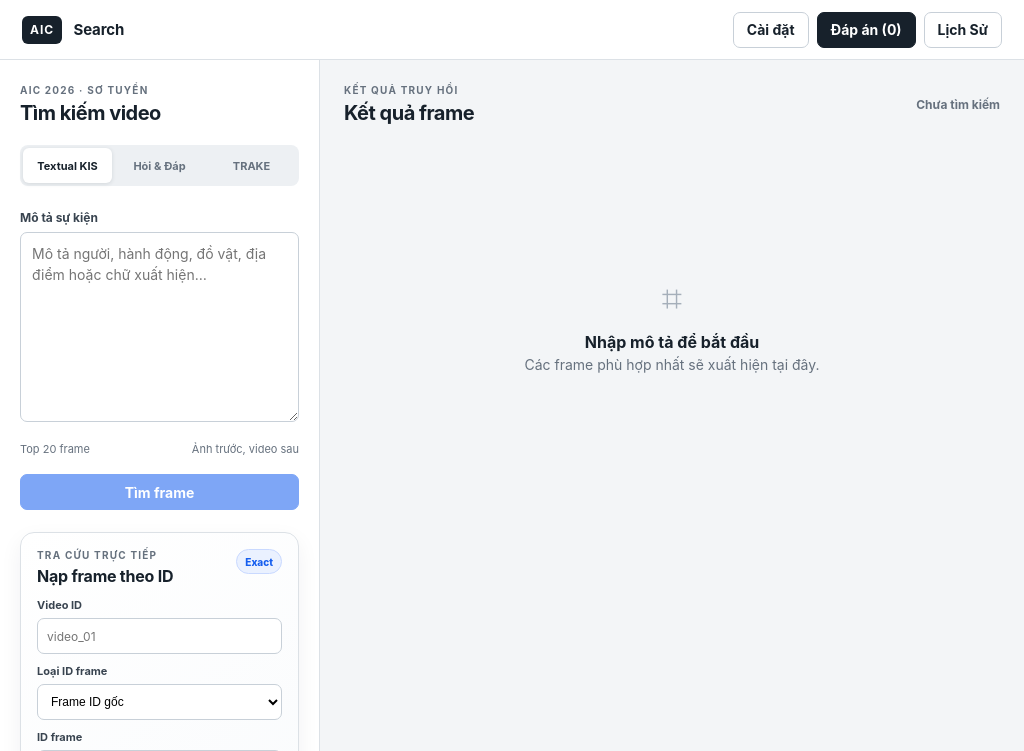
it: qualification frame-first workbench › adds a compact, configurable nearby window to the queue from Top 1
Type "Một cửa hàng trên phố" into the text box labelled "Mô tả sự kiện".
click(160, 327); type("Một cửa hàng trên phố")  # box [20,232,299,422]
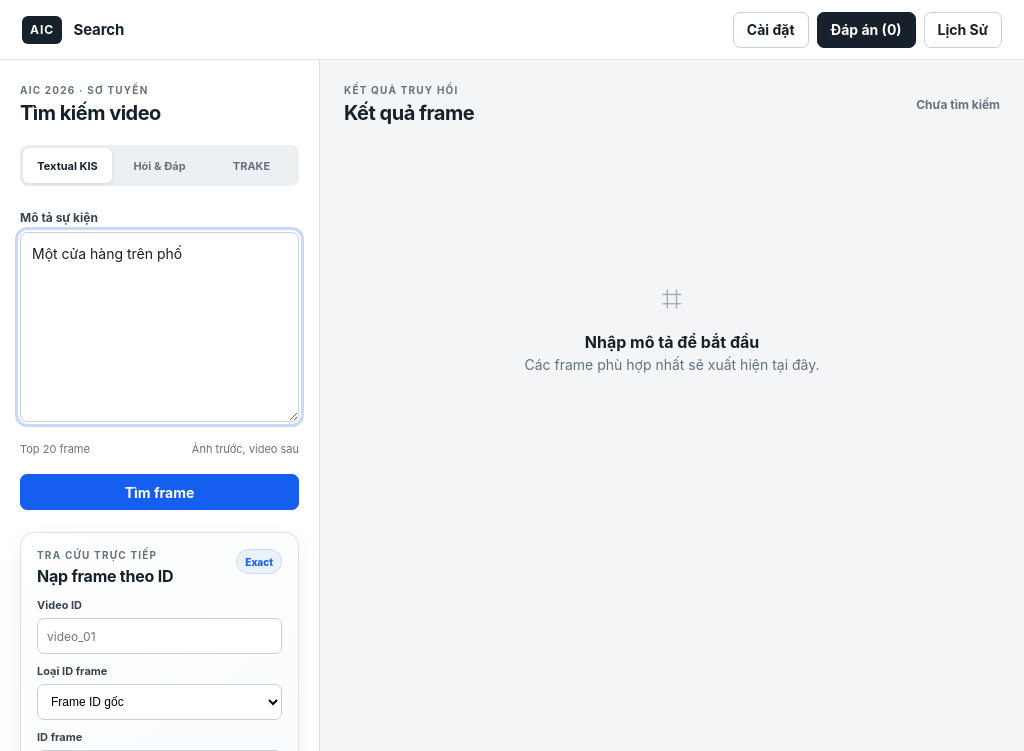
Click the button "Tìm frame".
click(160, 492)  # box [20,474,299,510]
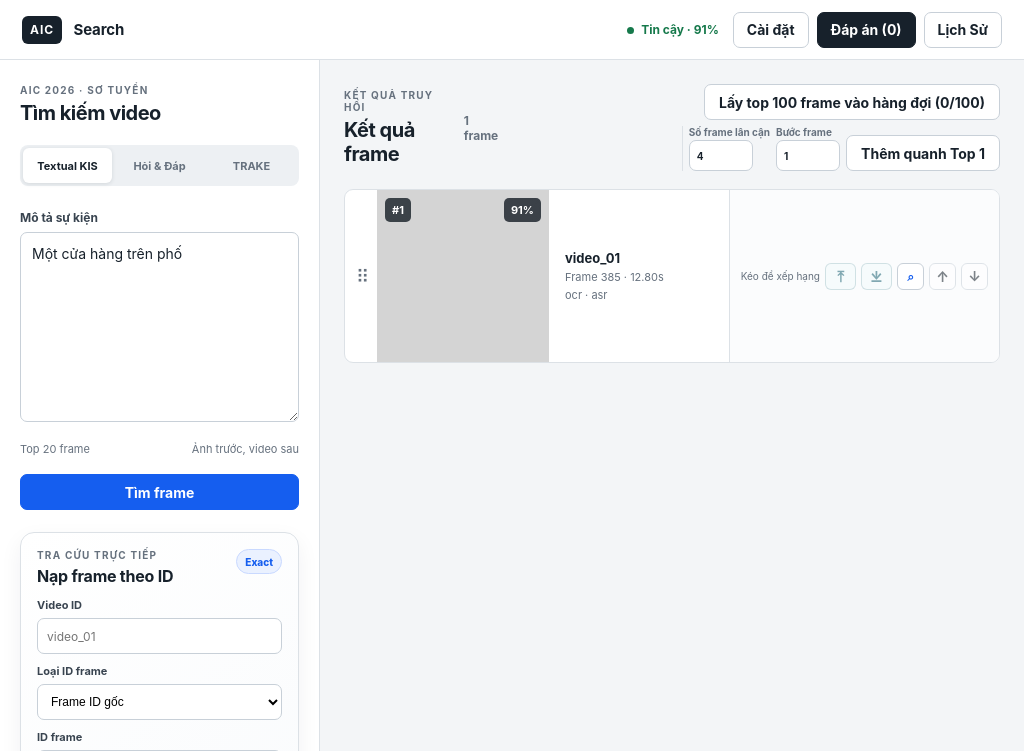
Result: the number field named "Số frame lân cận thêm vào queue" holds "4"
Replace the text in the number field named "Số frame lân cận thêm vào queue" with "6" at (721, 156), box [689,140,753,171]
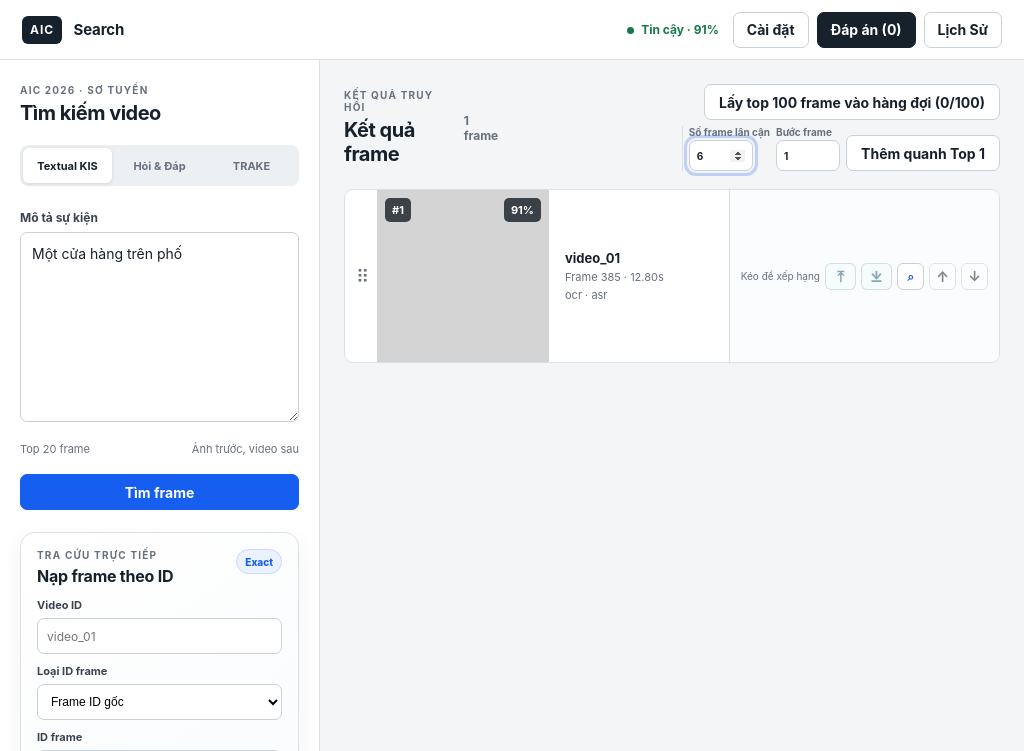
Replace the text in the number field named "Khoảng cách frame lân cận" with "90" at (808, 156), box [776,140,840,171]
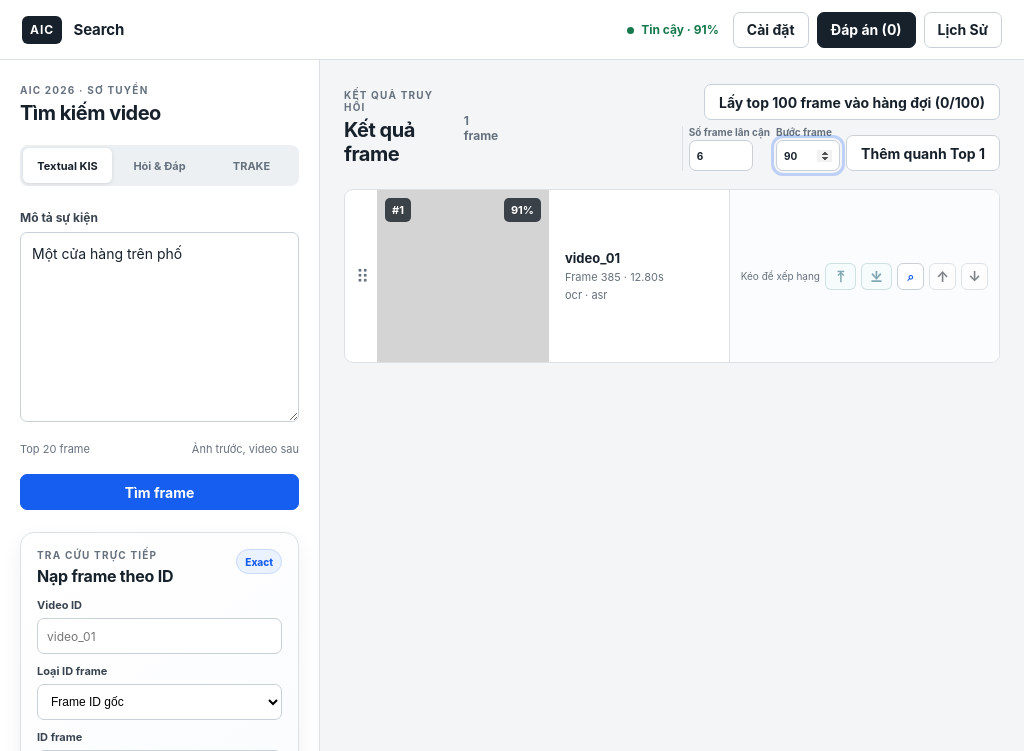
Click the button "Thêm quanh Top 1".
click(923, 153)  # box [846,135,1000,171]
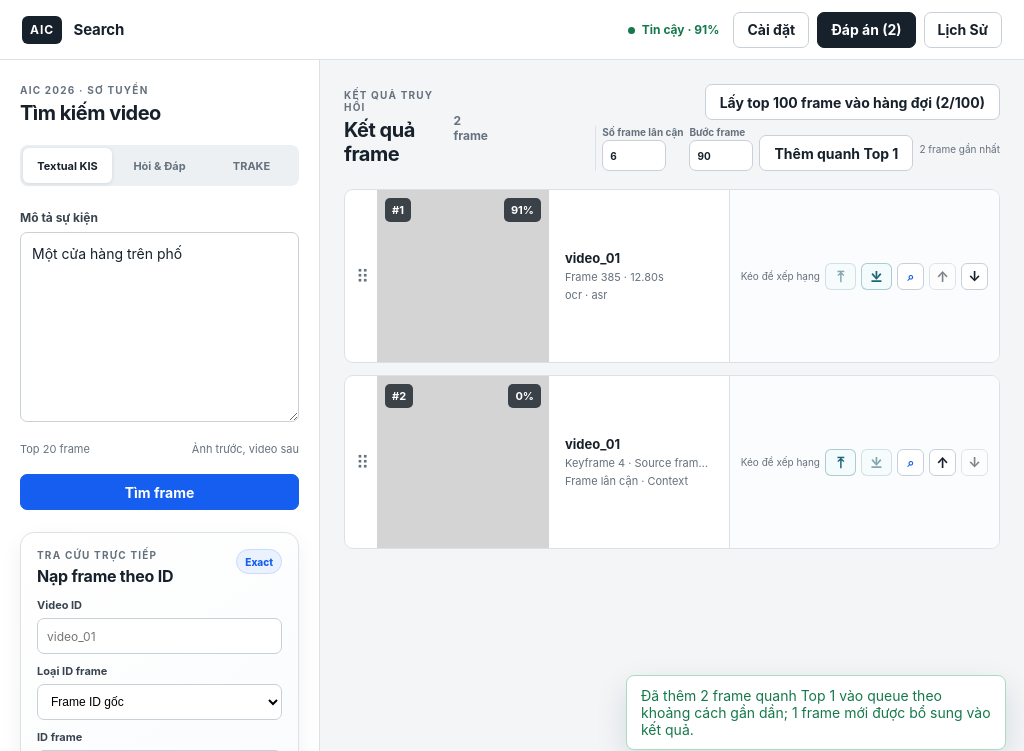
Result: the button with aria-label "Chọn keyframe video_01 · 4 · source frame 350" is shown at [377,376,729,548]
Result: the text "Frame lân cận · Context" is shown at [565,474,688,488]
Result: the text "2 frame" is shown at [453,112,488,142]
Click the button "Đáp án (2)".
click(866, 30)  # box [817,12,916,48]
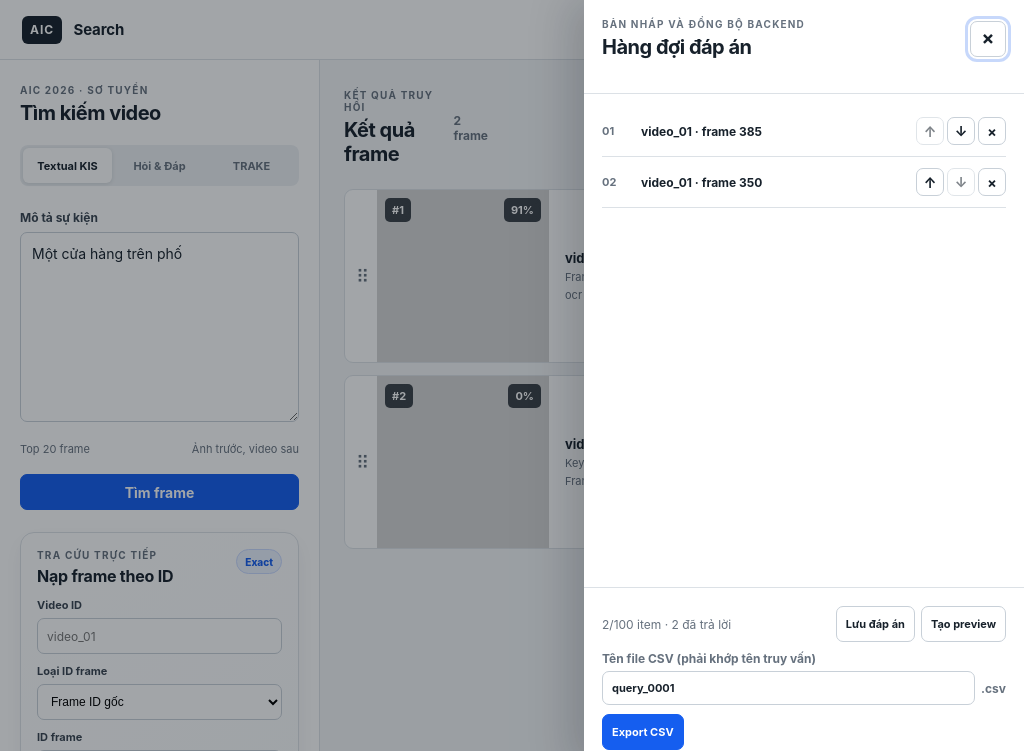
Result: the elements "video_01 · frame" read "video_01 · frame 385", "video_01 · frame 350", in this order at [641,124,762,138]; [641,174,762,190]
